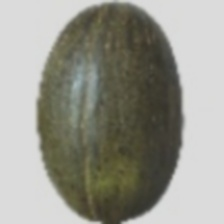honeydew: (44, 39, 213, 195)
